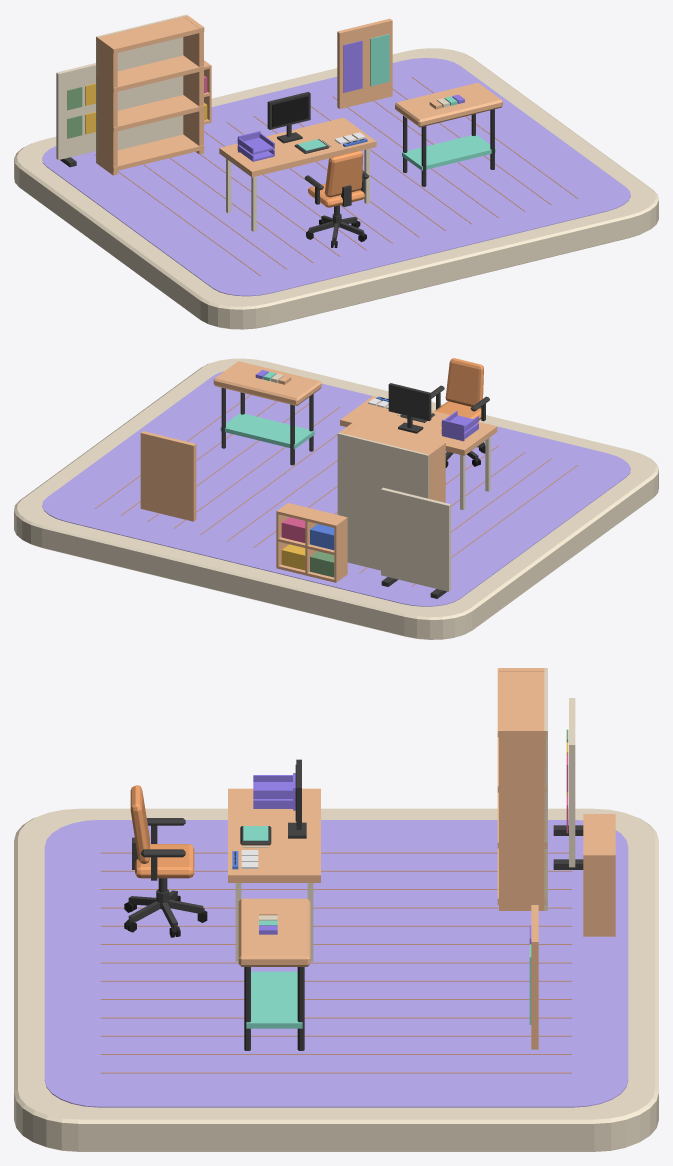
3 views of the same model, one above another, from view 1: azimuth 30°, elevation 25°; view 2: azimuth 150°, elevation 25°; view 3: azimuth 270°, elevation 25° (orthographic). The views are drawn at different scales.
Visible parts, largest first — view 1: COM-02 Floor Surface, COM-01 Rounded Base Direct, Top, Back, COM-04_Chair_blender_direct, Design board, Side, Panel, Worktop, Side.001, Shelf.003, Lower shelf (+6 smaller); view 2: COM-02 Floor Surface, COM-01 Rounded Base Direct, Back, Panel, Design board, Top, COM-04_Chair_blender_direct, Worktop, Lower shelf, Frame, Shelf.003, Side (+6 smaller); view 3: COM-02 Floor Surface, COM-01 Rounded Base Direct, Side.001, Top, COM-04_Chair_blender_direct, Worktop, Shelf.003, Lower shelf, Cubbies divider.002, Cubbies shelf.002, Panel, Design board (+8 smaller).
Part boxes in pixels (x1,y1,x2,y2): COM-02 Floor Surface: [42, 58, 630, 296]; COM-01 Rounded Base Direct: [14, 48, 658, 329]; Top: [219, 117, 376, 231]; Back: [96, 14, 187, 163]; COM-04_Chair_blender_direct: [304, 150, 369, 247]; Design board: [337, 18, 392, 108]; Side: [96, 36, 117, 175]; Panel: [56, 63, 95, 159]; Worktop: [395, 82, 502, 127]; Side.001: [183, 15, 203, 154]; Shelf.003: [96, 16, 204, 53]; Lower shelf: [402, 134, 495, 170]; COM-02 Floor Surface: [42, 371, 630, 606]; COM-01 Rounded Base Direct: [14, 358, 658, 639]; Back: [337, 432, 428, 570]; Panel: [381, 487, 450, 591]; Design board: [140, 431, 196, 521]; Top: [340, 396, 497, 509]; COM-04_Chair_blender_direct: [431, 358, 489, 467]; Worktop: [213, 361, 321, 405]; Lower shelf: [220, 413, 314, 449]; Frame: [388, 383, 431, 433]; Shelf.003: [344, 421, 445, 459]; Side: [425, 442, 445, 502]; COM-02 Floor Surface: [44, 820, 628, 1107]; COM-01 Rounded Base Direct: [14, 808, 658, 1151]; Side.001: [499, 728, 545, 910]; Top: [228, 788, 320, 961]; COM-04_Chair_blender_direct: [124, 785, 207, 937]; Worktop: [238, 898, 310, 966]; Shelf.003: [497, 668, 547, 737]; Lower shelf: [246, 971, 302, 1028]; Cubbies divider.002: [583, 855, 615, 936]; Cubbies shelf.002: [583, 814, 615, 855]; Panel: [569, 698, 575, 867]; Design board: [531, 905, 538, 1049].
Size of the model in its own units: 6 by 1.9 by 5.2.
1 material, 1 textured.
